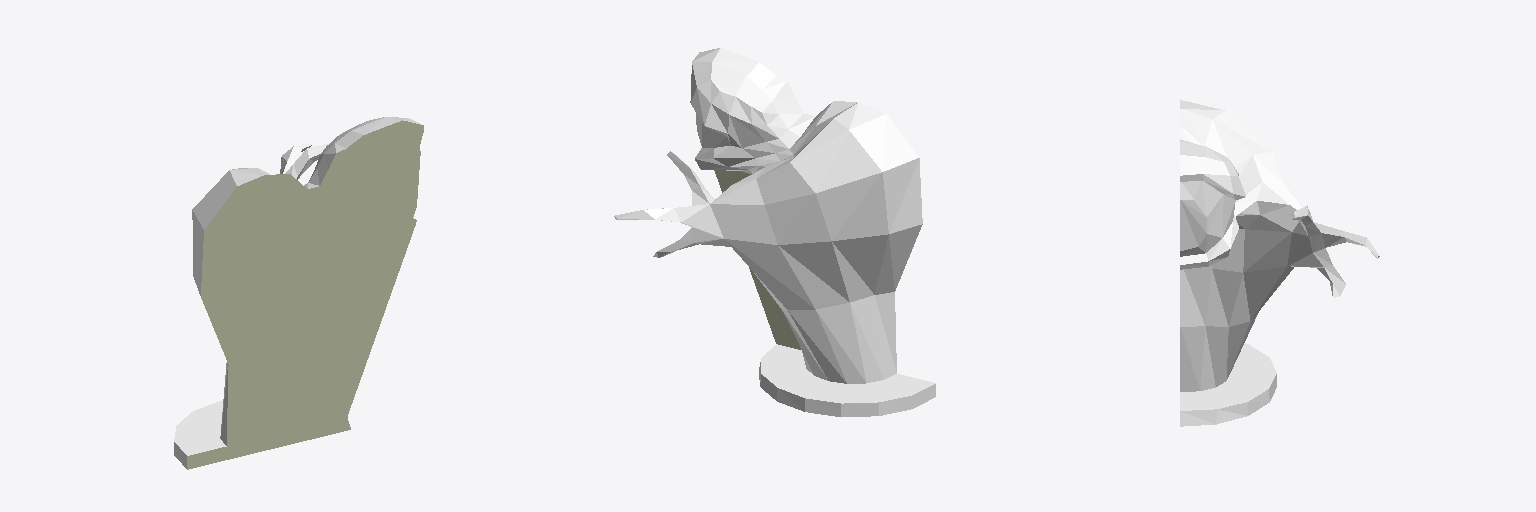
Rendered from enemy.obj.
The picture shows the model from 3 angles: view 1: azimuth 30°, elevation 25°; view 2: azimuth 150°, elevation 25°; view 3: azimuth 270°, elevation 25°; orthographic projection.
Visible parts, largest first — view 1: cylinder4; view 2: cylinder4; view 3: cylinder4.
Boxes of the visible parts, x1,y1,x2,y2 form: cylinder4: [174, 117, 423, 469]; cylinder4: [614, 48, 935, 416]; cylinder4: [1180, 100, 1379, 426].
Bounding box in the file's own units: 3.25 × 3.89 × 2.36.